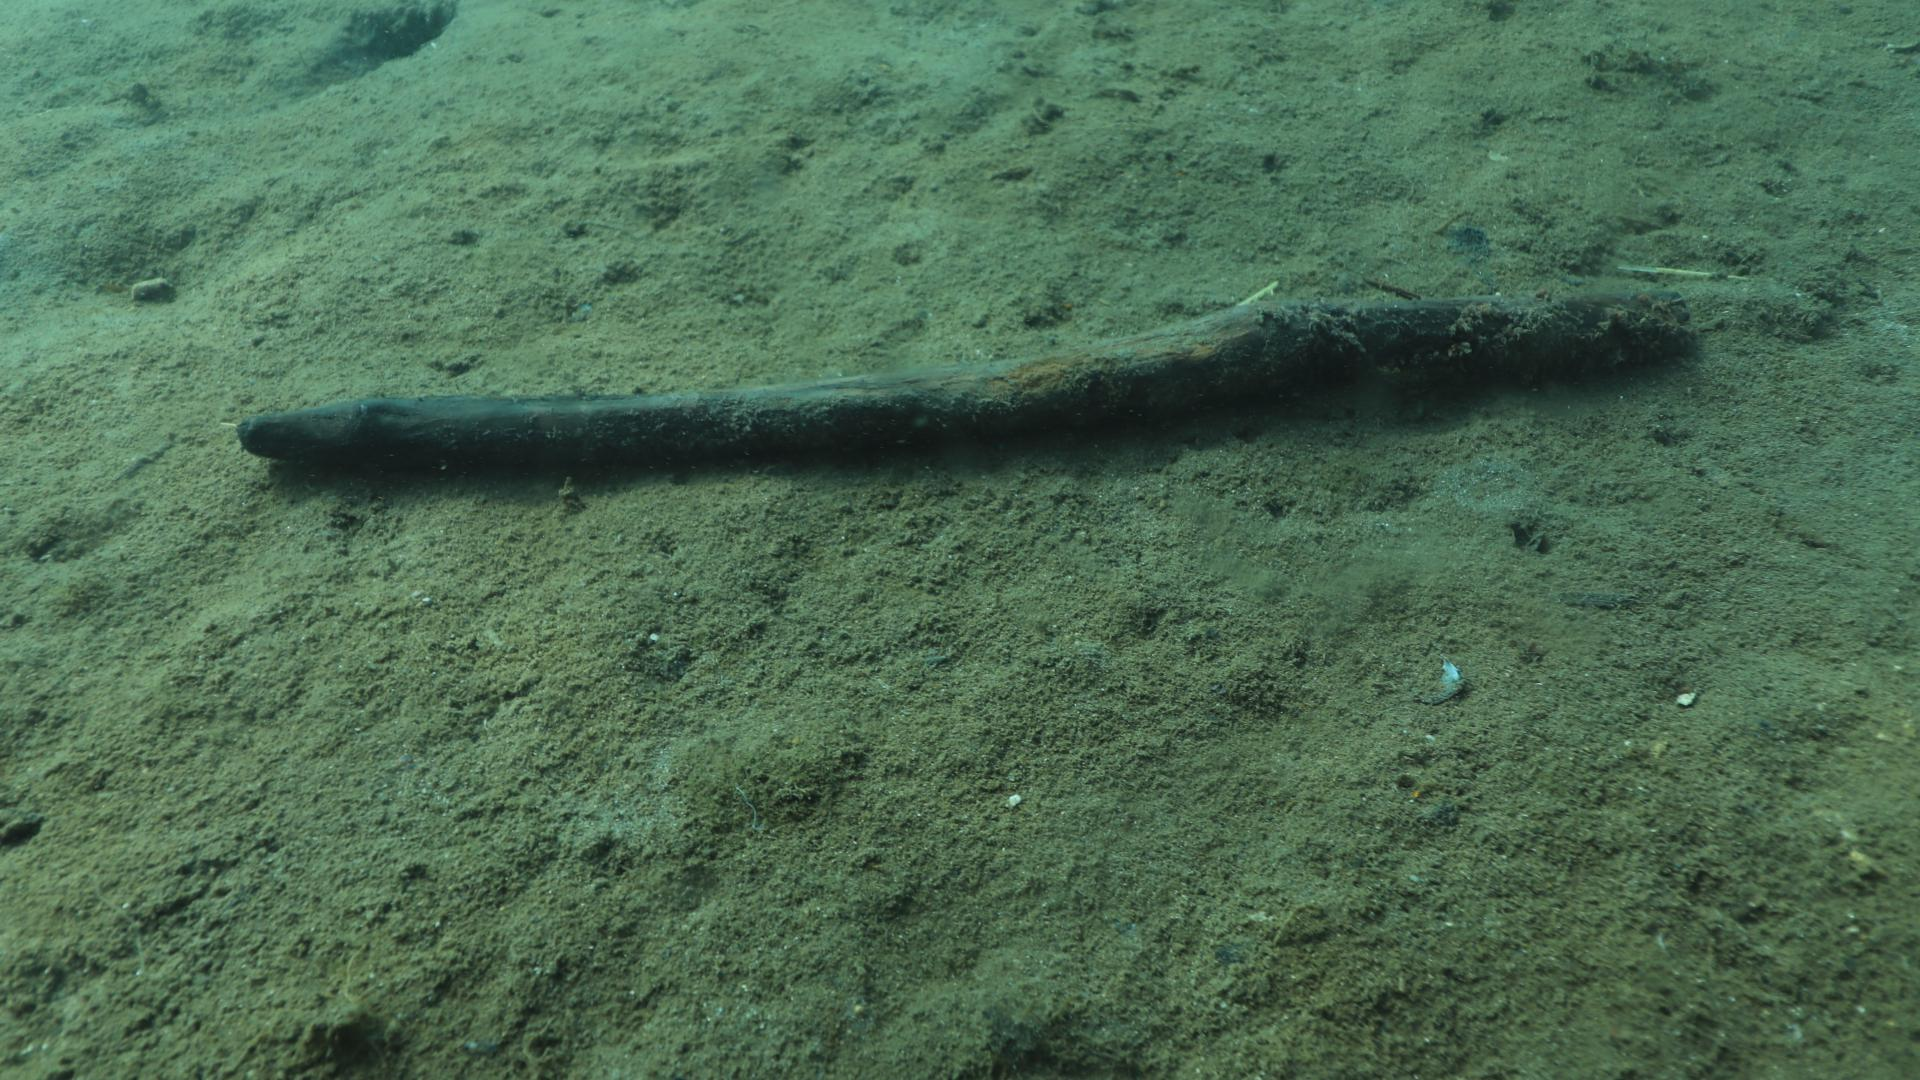wood: (229, 286, 1695, 469)
